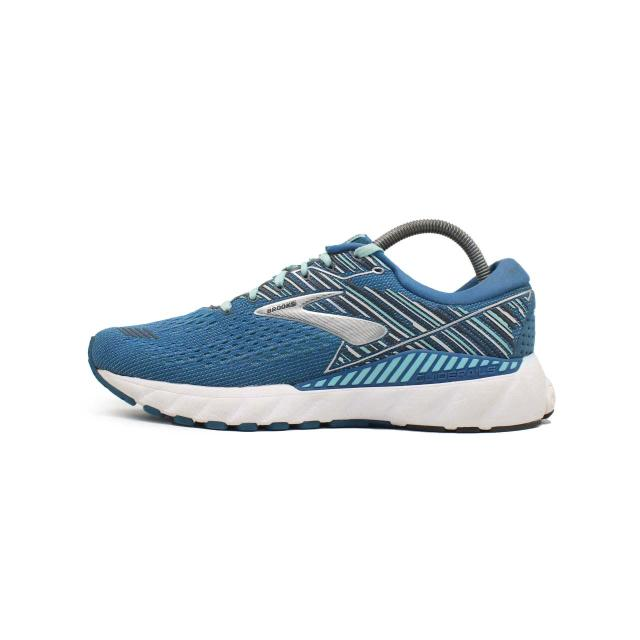heel: (473, 259, 536, 376)
midsole: (86, 336, 557, 434)
uppersole: (95, 236, 474, 391)
